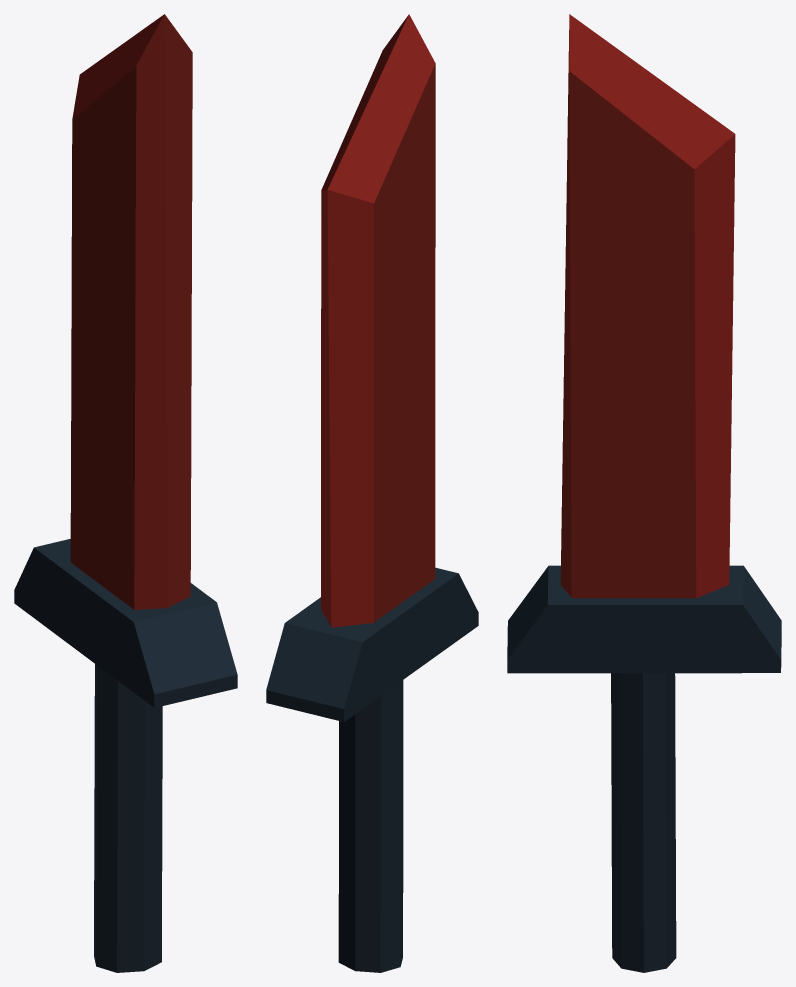
File: Dagger2.fbx
3 renders of one model, left to right at view 1: azimuth 30°, elevation 25°; view 2: azimuth 150°, elevation 25°; view 3: azimuth 270°, elevation 25°, orthographic. The views are drawn at different scales.
Visible parts, largest first — view 1: Cube.021; view 2: Cube.021; view 3: Cube.021.
Part boxes in pixels (<box>): Cube.021: <box>14,14,237,972</box>; Cube.021: <box>266,14,478,972</box>; Cube.021: <box>507,14,781,972</box>.
Size of the model in its own units: 0.0549 by 0.1599 by 0.6065.
